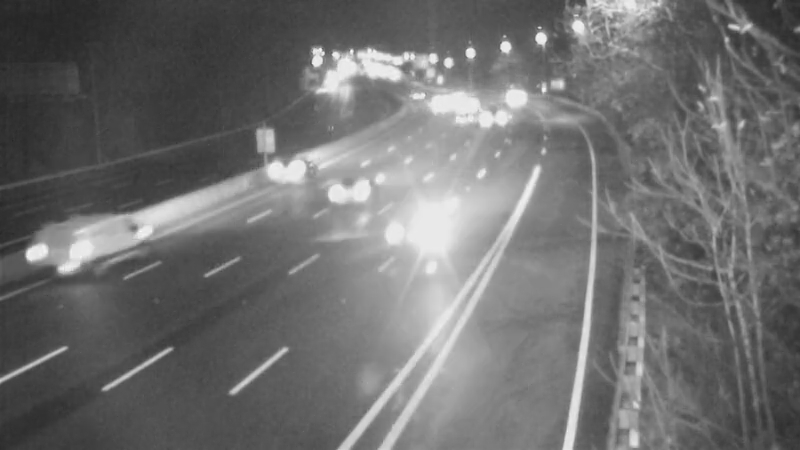vehicle: (248, 134, 328, 214), (312, 151, 392, 231), (370, 187, 450, 267), (23, 212, 103, 292), (391, 71, 441, 121), (492, 73, 542, 123), (470, 89, 520, 139), (435, 97, 485, 147)
